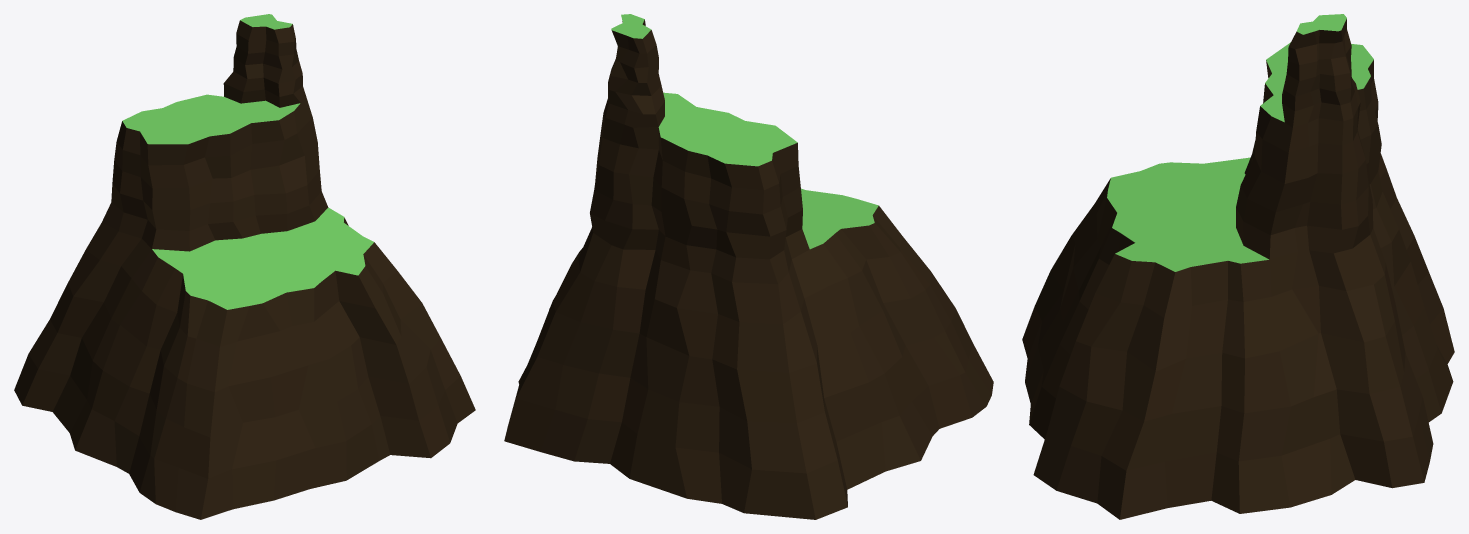
The model's file is SM_Mountain.fbx.
3 renders of one model, left to right at view 1: azimuth 30°, elevation 25°; view 2: azimuth 150°, elevation 25°; view 3: azimuth 270°, elevation 25°, orthographic. The views are drawn at different scales.
Visible parts, largest first — view 1: Mountain; view 2: Mountain; view 3: Mountain.
Part boxes in pixels (left/top/right/bottom): Mountain: left=14, top=14, right=475, bottom=519; Mountain: left=504, top=14, right=993, bottom=519; Mountain: left=1022, top=14, right=1454, bottom=519.
Size of the model in its own units: 15035 by 14846 by 13637.
